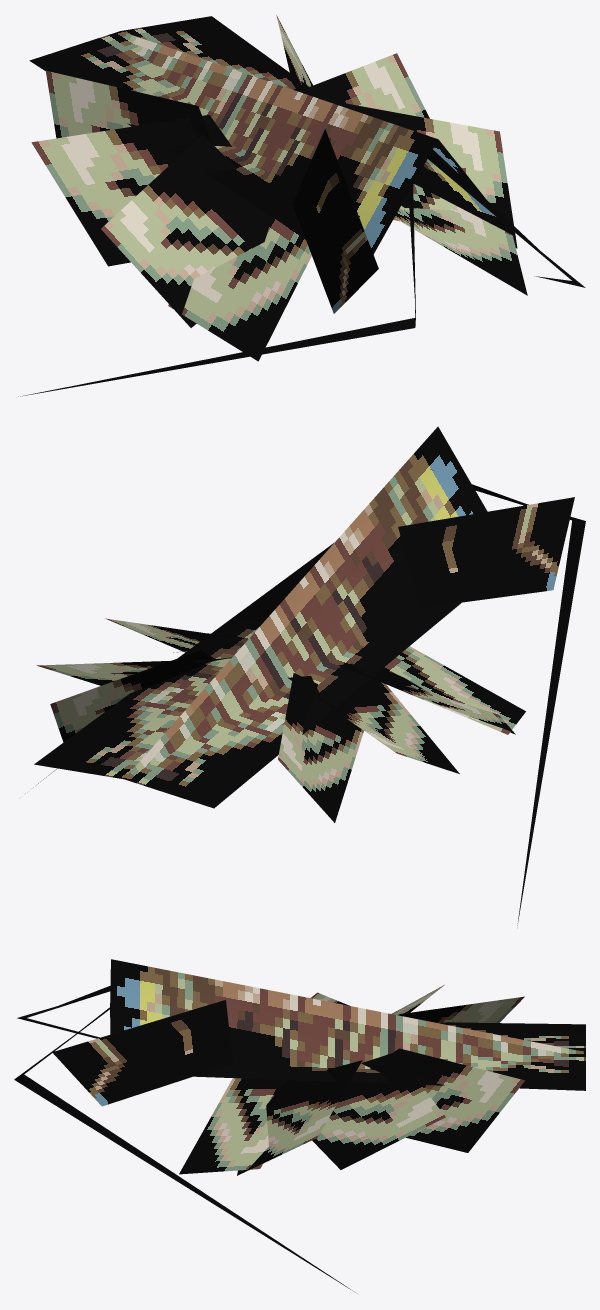
3 views of the same model, one above another, from view 1: azimuth 30°, elevation 25°; view 2: azimuth 150°, elevation 25°; view 3: azimuth 270°, elevation 25° (orthographic). The views are drawn at different scales.
Parts seen in each view (by area): view 1: 4865fish75d; view 2: 4865fish75d; view 3: 4865fish75d.
Part boxes in pixels (left/top/right/bottom): 4865fish75d: left=18, top=15, right=585, bottom=396; 4865fish75d: left=25, top=426, right=585, bottom=925; 4865fish75d: left=14, top=959, right=585, bottom=1292.
Size of the model in its own units: 0.4663 by 0.2798 by 0.6016.
Materials: 1 (1 with a texture image).
